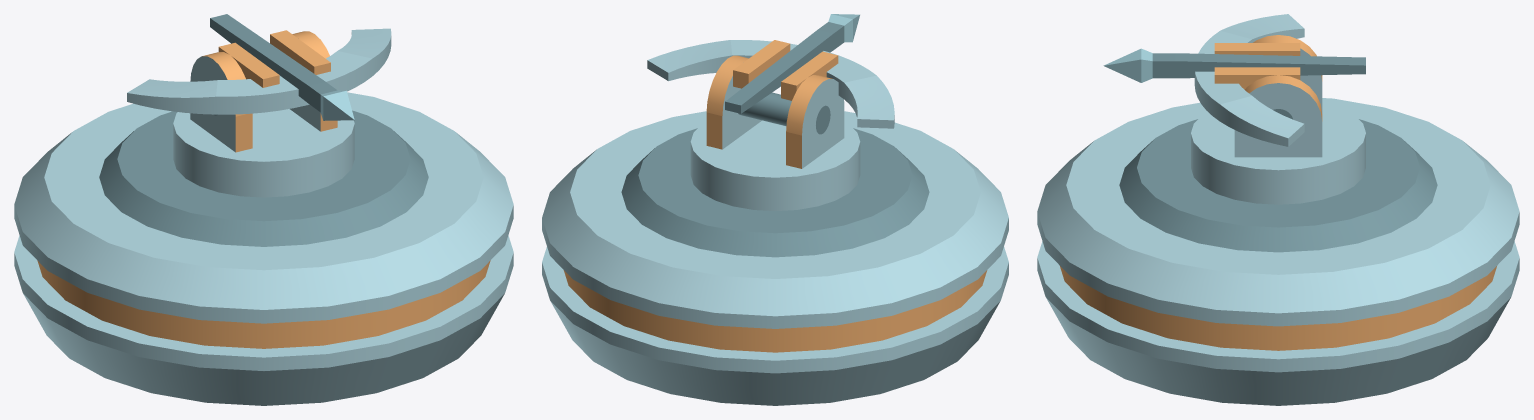
Rendered from enemy_ufoYellowWeapon.dae.
The picture shows the model from 3 angles, left to right: view 1: azimuth 30°, elevation 25°; view 2: azimuth 150°, elevation 25°; view 3: azimuth 270°, elevation 25°; orthographic projection. The views are drawn at different scales.
Parts seen in each view (by area): view 1: enemy_ufoYellowWeapon, bow, arrow; view 2: enemy_ufoYellowWeapon, bow, arrow; view 3: enemy_ufoYellowWeapon, bow, arrow.
Boxes of the visible parts, <box> form: enemy_ufoYellowWeapon: <box>14,31,513,405</box>; bow: <box>127,28,391,114</box>; arrow: <box>210,14,354,120</box>; enemy_ufoYellowWeapon: <box>542,55,1008,405</box>; bow: <box>647,40,894,128</box>; arrow: <box>725,14,859,113</box>; enemy_ufoYellowWeapon: <box>1037,35,1519,405</box>; bow: <box>1194,14,1304,146</box>; arrow: <box>1103,48,1365,82</box>.
Size of the model in its own units: 1 by 0.5951 by 1.
